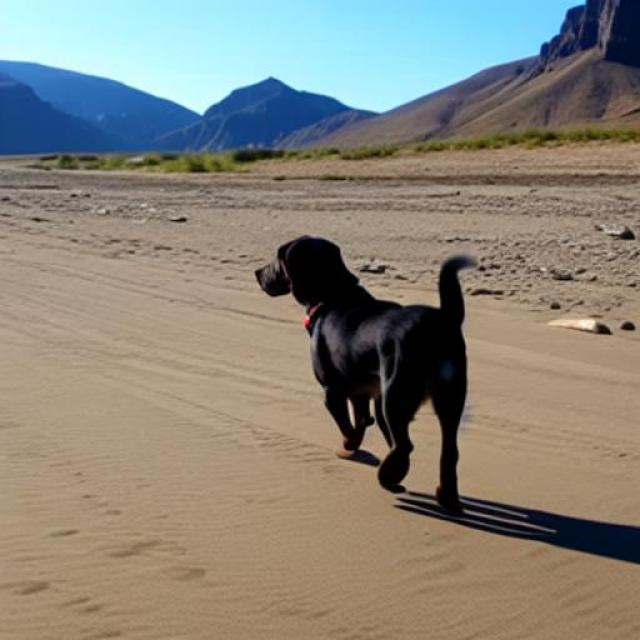Dog: (255, 234, 478, 499)
